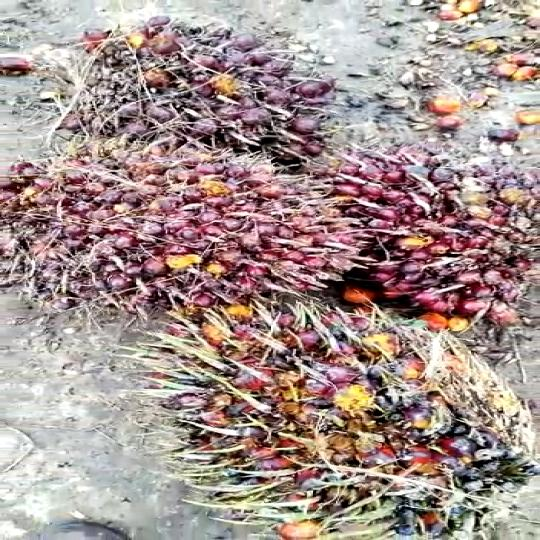masak: (153, 296, 540, 540), (0, 130, 372, 324), (299, 139, 540, 329), (62, 22, 339, 159)
